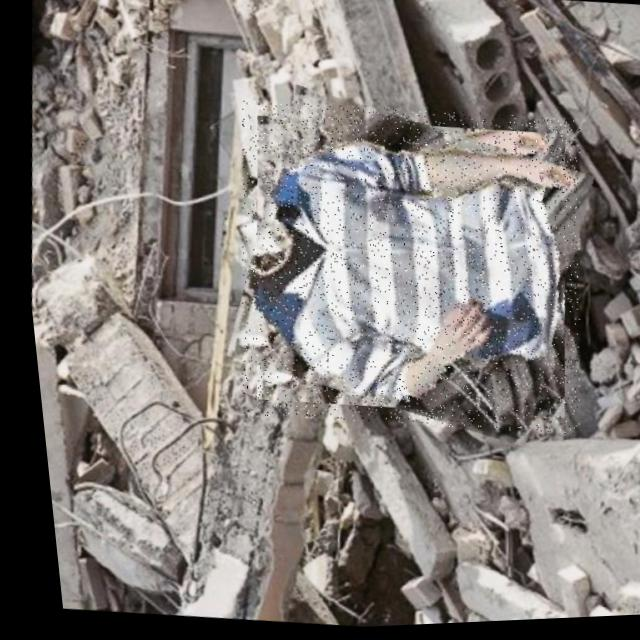Person in Rubble: (207, 88, 602, 450)
